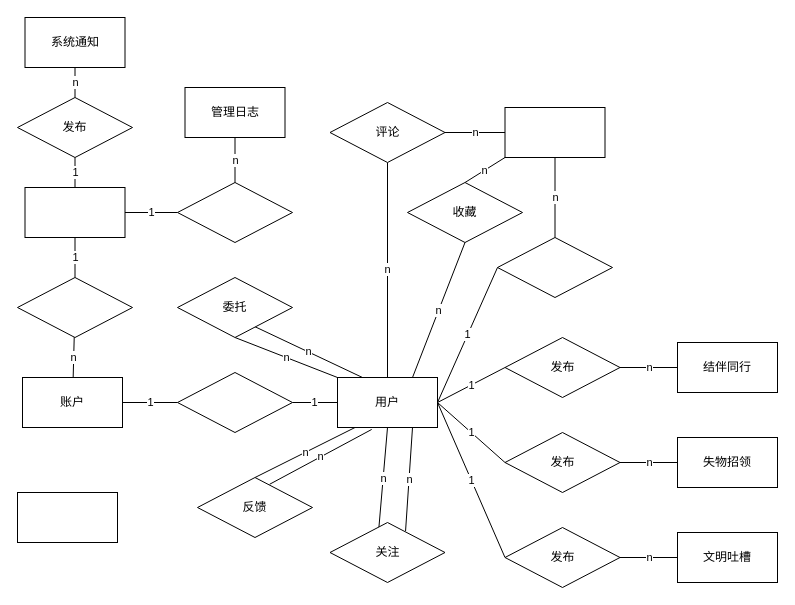
This 795x605 diagram has some shape labels left out. Each missing label, with the centre of its shape:
"创作" goes at point (554, 267).
"博客" goes at point (554, 132).
"登记" goes at point (74, 307).
"管理动作" goes at point (234, 212).
"管理员" goes at point (74, 212).
"系统概况" goes at point (67, 517).
"补充" goes at point (234, 402).
